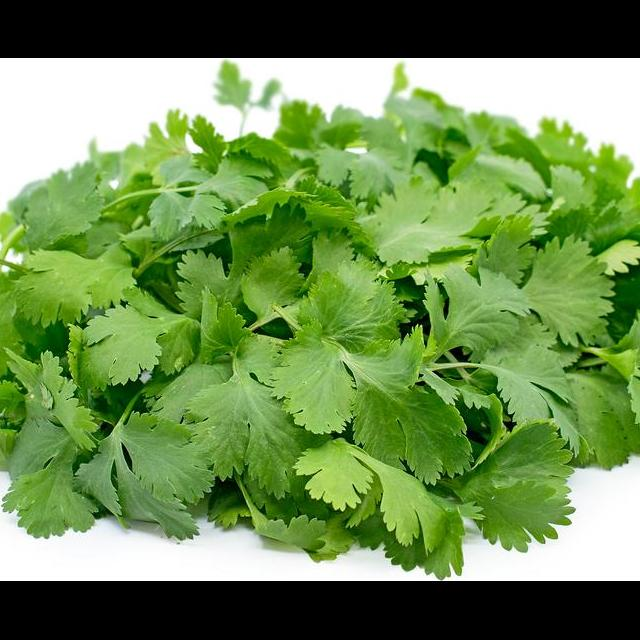cilantro: (0, 59, 640, 577)
